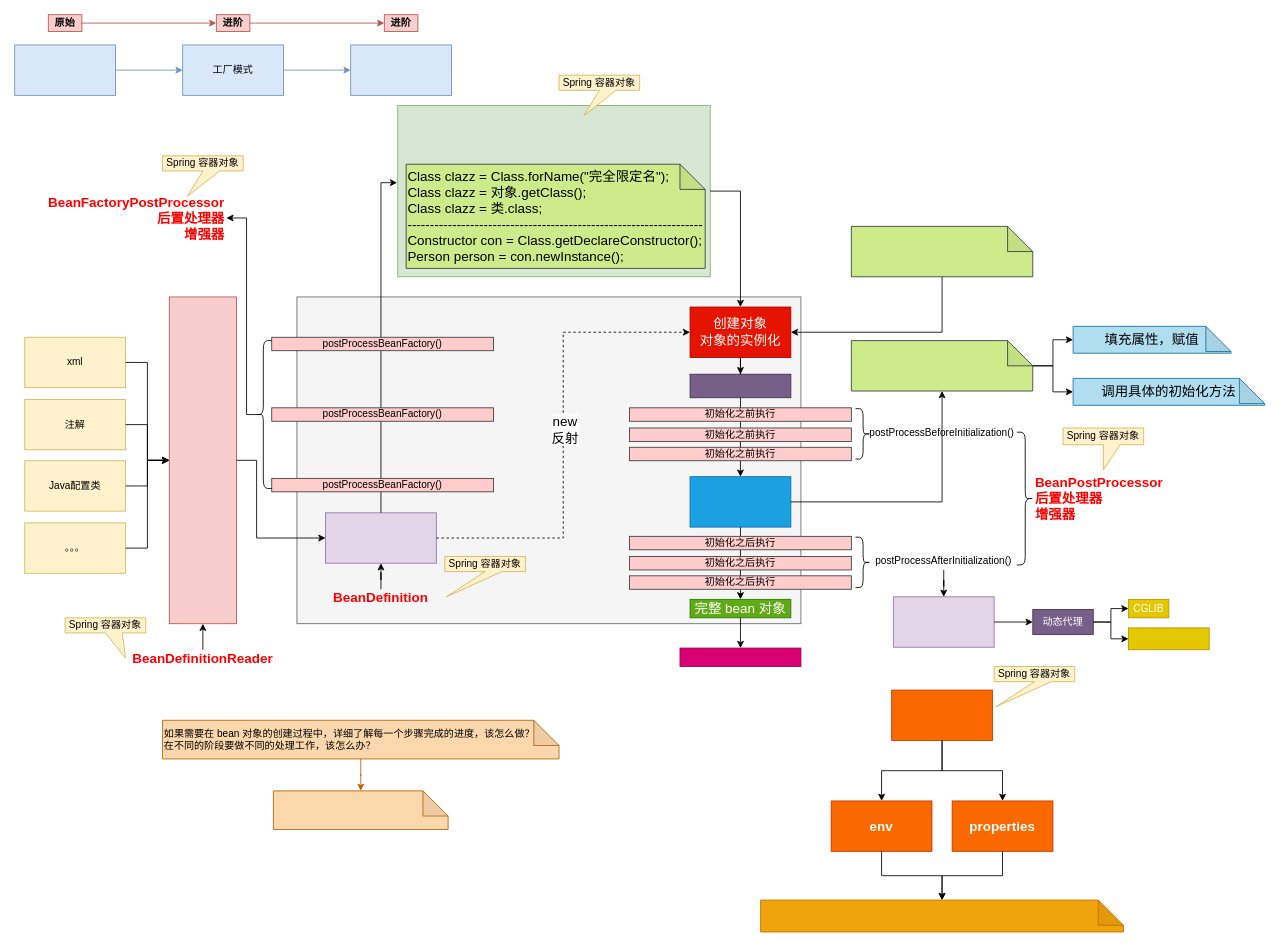
Some shapes in this 1279 by 947 pixel diagram are drawn without their labels. The box of each missing label's shape, as (x1, y1, x2, y2) in pixels:
AOP: (892, 596, 994, 647)
Bean 的定义信息: (325, 512, 436, 563)
BeanFactory DefaultListableBeanFactory: (397, 105, 710, 277)
context.getBean(): (679, 647, 801, 667)
Environment: (891, 689, 992, 740)
IoC 容器: (296, 296, 801, 624)
JDK动态代理: (1128, 627, 1209, 650)
new: (14, 44, 116, 95)
为了方便使用，在容器创建的时候会提前将系统的相关属性加载到StandardEnvironment对象中，方便后续使用。: (760, 899, 1124, 932)
初始化 bean 执行 init 方法: (689, 476, 791, 527)
在堆中开辟一块空间 属性都是默认值: (850, 226, 1033, 277)
填充属性: (689, 373, 791, 398)
容器 反射+工厂模式: (350, 44, 452, 95)
抽象接口 定义读取配置文件的规范 配置信息的解析: (168, 296, 236, 624)
给属性完成赋值操作: (850, 340, 1033, 391)
观察者模式，监听器，监听事件: (273, 790, 448, 830)
